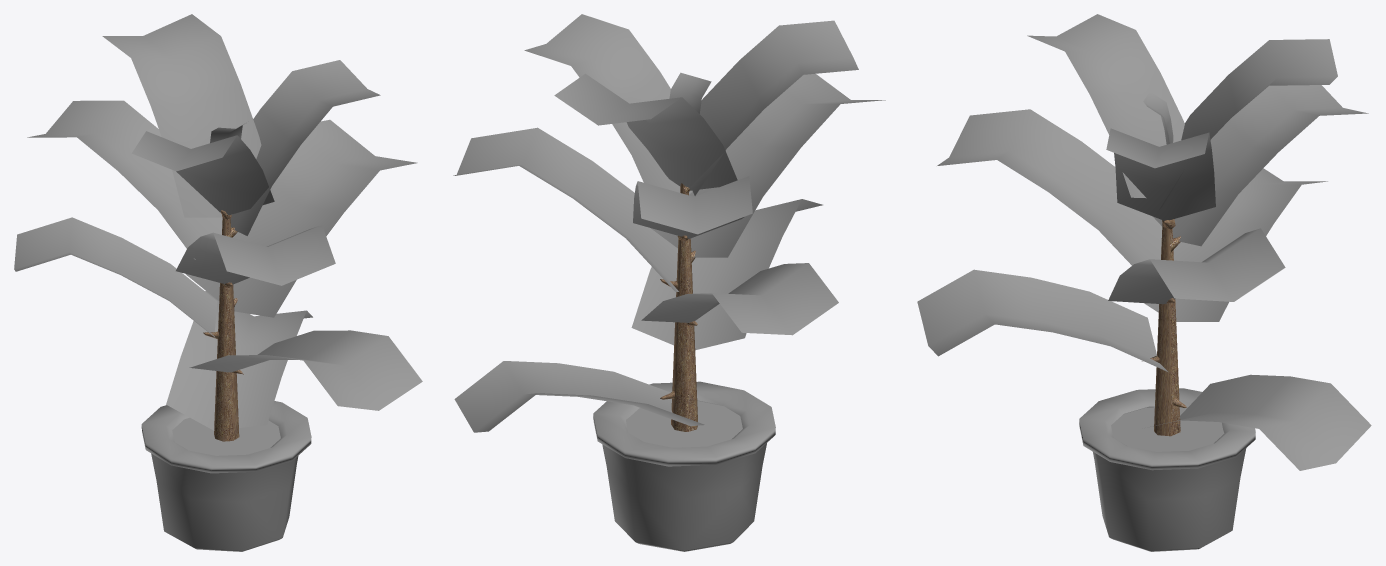
File: Pictum_leaf_lod0.fbx
3 renders of one model, left to right at view 1: azimuth 30°, elevation 25°; view 2: azimuth 150°, elevation 25°; view 3: azimuth 270°, elevation 25°, orthographic. The views are drawn at different scales.
Visible parts, largest first — view 1: Pictum_leaf_lod0; view 2: Pictum_leaf_lod0; view 3: Pictum_leaf_lod0.
Boxes of the visible parts, x1,y1,x2,y2 form: Pictum_leaf_lod0: (14,14,422,551); Pictum_leaf_lod0: (453,14,885,551); Pictum_leaf_lod0: (917,14,1371,551).
Bounding box in the file's own units: 56.32 × 64.95 × 57.23.
3 materials, 1 textured.
